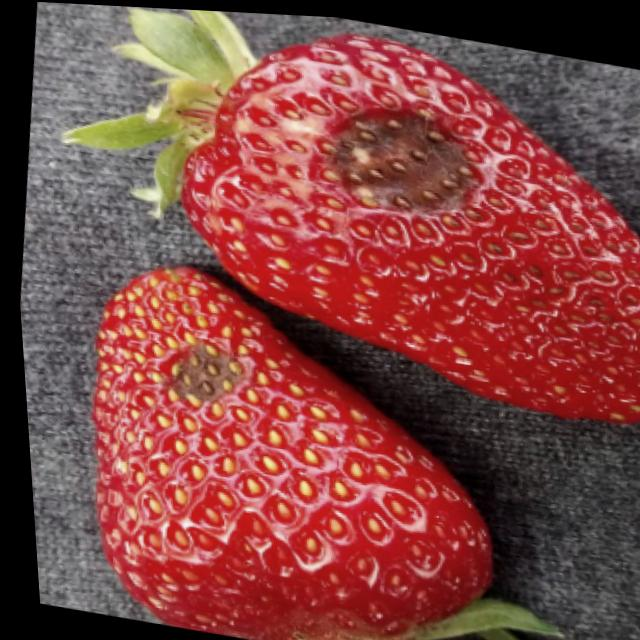Anthracnose Fruit Rot: (316, 94, 485, 217), (145, 332, 244, 413)
